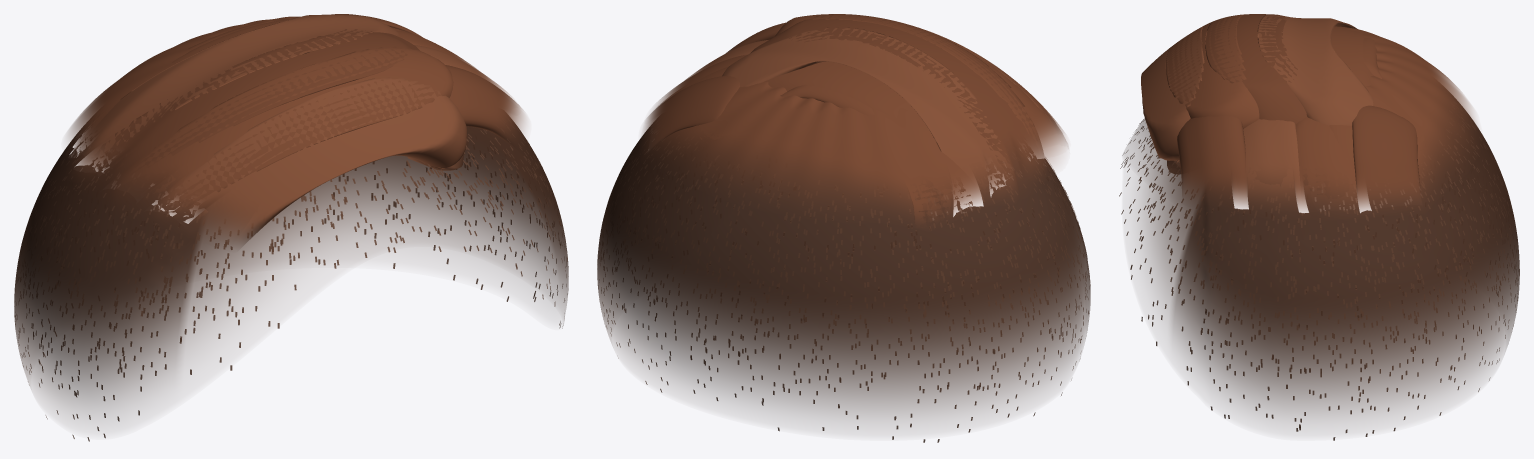
The model's file is Masculine-taper-tank-pashmina250-hair.glb.
3 renders of one model, left to right at view 1: azimuth 30°, elevation 25°; view 2: azimuth 150°, elevation 25°; view 3: azimuth 270°, elevation 25°, orthographic. The views are drawn at different scales.
Parts seen in each view (by area): view 1: 226 hair / Hair / neutral coverage235.002, 226 hair / Hair / sculpted 2.003 / blended tips214.007, 226 hair / Hair / sculpted 0.003 / blended tips214.007, 226 hair / Hair / sculpted 1.002 / blended tips214.006, 226 hair / Hair / sculpted 2.003 / blended tips214.006, 226 hair / Hair / cut grain235.002, 226 hair / Hair / blended back crown214.002, 226 hair / Hair / sculpted 1.002 / blended tips214.008, 226 hair / Hair / sculpted 0.003 / blended tips214.006, 226 hair / Hair / sculpted 2.003 / blended tips214.008; view 2: 226 hair / Hair / neutral coverage235.002, 226 hair / Hair / blended back crown214.002, 226 hair / Hair / sculpted 2.003 / blended tips214.006, 226 hair / Hair / cut grain235.002, 226 hair / Hair / sculpted 1.002 / blended tips214.006, 226 hair / Hair / sculpted 0.003 / blended tips214.006, 226 hair / Hair / sculpted 0.003 / blended tips214.007, 226 hair / Hair / sculpted 1.002 / blended tips214.007, 226 hair / Hair / sculpted 2.003 / blended tips214.007, 226 hair / Hair / sculpted 0.003 / blended tips214.008, 226 hair / Hair / sculpted 2.003 / blended tips214.008; view 3: 226 hair / Hair / neutral coverage235.002, 226 hair / Hair / blended back crown214.002, 226 hair / Hair / cut grain235.002, 226 hair / Hair / sculpted 2.003 / blended tips214.006, 226 hair / Hair / sculpted 1.002 / blended tips214.007, 226 hair / Hair / sculpted 1.002 / blended tips214.006, 226 hair / Hair / sculpted 1.002 / blended tips214.008, 226 hair / Hair / sculpted 0.003 / blended tips214.007, 226 hair / Hair / sculpted 2.003 / blended tips214.008, 226 hair / Hair / sculpted 2.003 / blended tips214.007, 226 hair / Hair / sculpted 0.003 / blended tips214.008, 226 hair / Hair / sculpted 0.003 / blended tips214.006.
Part boxes in pixels (left/top/right/bottom): 226 hair / Hair / neutral coverage235.002: left=14, top=114, right=568, bottom=419; 226 hair / Hair / sculpted 2.003 / blended tips214.007: left=149, top=77, right=468, bottom=247; 226 hair / Hair / sculpted 0.003 / blended tips214.007: left=106, top=46, right=453, bottom=222; 226 hair / Hair / sculpted 1.002 / blended tips214.006: left=79, top=29, right=419, bottom=196; 226 hair / Hair / sculpted 2.003 / blended tips214.006: left=73, top=14, right=398, bottom=173; 226 hair / Hair / cut grain235.002: left=14, top=119, right=568, bottom=441; 226 hair / Hair / blended back crown214.002: left=68, top=16, right=409, bottom=152; 226 hair / Hair / sculpted 1.002 / blended tips214.008: left=445, top=65, right=525, bottom=145; 226 hair / Hair / sculpted 0.003 / blended tips214.006: left=76, top=18, right=292, bottom=146; 226 hair / Hair / sculpted 2.003 / blended tips214.008: left=414, top=45, right=511, bottom=96; 226 hair / Hair / neutral coverage235.002: left=597, top=120, right=1090, bottom=423; 226 hair / Hair / blended back crown214.002: left=645, top=66, right=994, bottom=222; 226 hair / Hair / sculpted 2.003 / blended tips214.006: left=722, top=27, right=1017, bottom=209; 226 hair / Hair / cut grain235.002: left=597, top=128, right=1090, bottom=442; 226 hair / Hair / sculpted 1.002 / blended tips214.006: left=751, top=14, right=1045, bottom=189; 226 hair / Hair / sculpted 0.003 / blended tips214.006: left=763, top=61, right=981, bottom=223; 226 hair / Hair / sculpted 0.003 / blended tips214.007: left=775, top=14, right=1067, bottom=169; 226 hair / Hair / sculpted 1.002 / blended tips214.007: left=644, top=76, right=739, bottom=149; 226 hair / Hair / sculpted 2.003 / blended tips214.007: left=912, top=25, right=1064, bottom=139; 226 hair / Hair / sculpted 0.003 / blended tips214.008: left=653, top=55, right=746, bottom=110; 226 hair / Hair / sculpted 2.003 / blended tips214.008: left=684, top=39, right=769, bottom=80; 226 hair / Hair / neutral coverage235.002: left=1124, top=88, right=1519, bottom=423; 226 hair / Hair / blended back crown214.002: left=1323, top=26, right=1475, bottom=207; 226 hair / Hair / cut grain235.002: left=1119, top=96, right=1519, bottom=440; 226 hair / Hair / sculpted 2.003 / blended tips214.006: left=1257, top=14, right=1373, bottom=125; 226 hair / Hair / sculpted 1.002 / blended tips214.007: left=1352, top=105, right=1421, bottom=207; 226 hair / Hair / sculpted 1.002 / blended tips214.006: left=1205, top=14, right=1307, bottom=124; 226 hair / Hair / sculpted 1.002 / blended tips214.008: left=1177, top=116, right=1247, bottom=205; 226 hair / Hair / sculpted 0.003 / blended tips214.007: left=1165, top=14, right=1259, bottom=128; 226 hair / Hair / sculpted 2.003 / blended tips214.008: left=1231, top=119, right=1306, bottom=209; 226 hair / Hair / sculpted 2.003 / blended tips214.007: left=1141, top=26, right=1204, bottom=174; 226 hair / Hair / sculpted 0.003 / blended tips214.008: left=1294, top=117, right=1368, bottom=210; 226 hair / Hair / sculpted 0.003 / blended tips214.006: left=1331, top=26, right=1381, bottom=87.
Bounding box in the file's own units: 0.9759 × 0.6525 × 0.7751.
